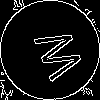W: (25, 25, 85, 86)
